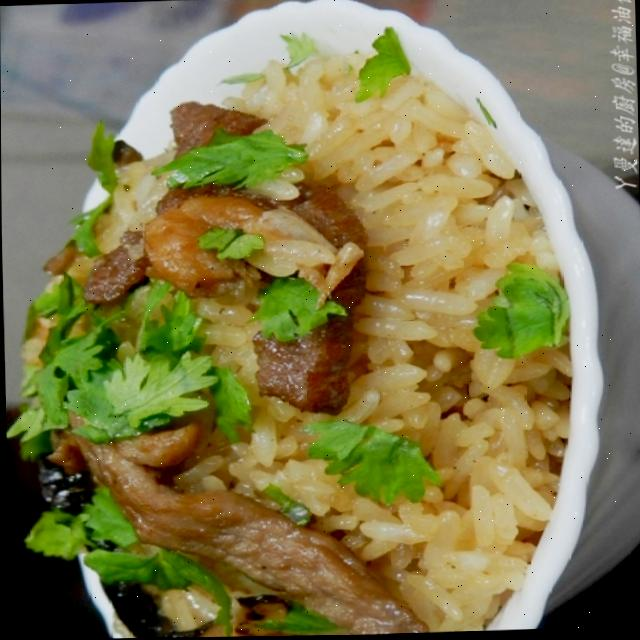米饭主食: (18, 0, 640, 637)
